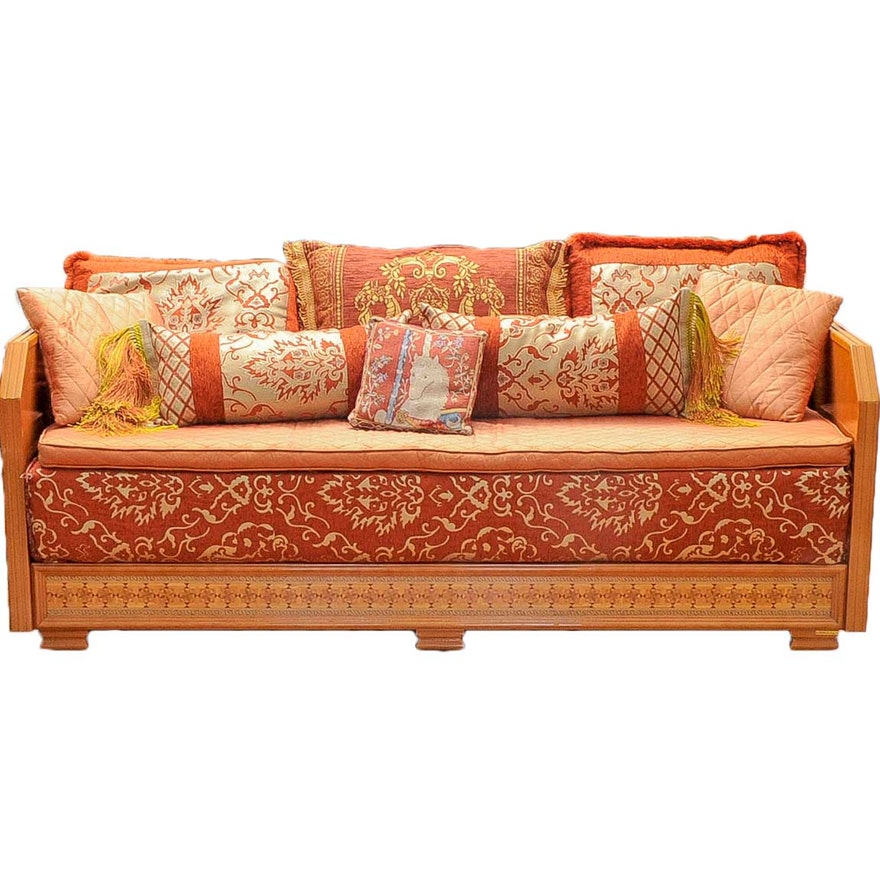chairs: (4, 227, 873, 655)
